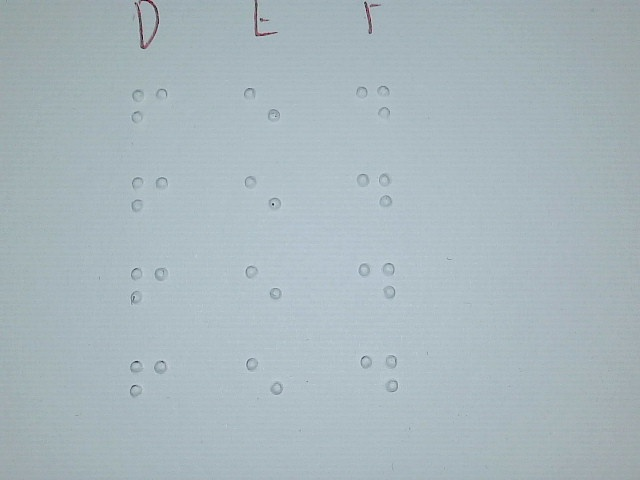D: (354, 76, 393, 141), (354, 163, 393, 228), (357, 252, 396, 317), (360, 344, 399, 409)
E: (243, 77, 282, 142), (243, 164, 282, 229), (244, 256, 283, 321), (245, 347, 284, 412)
F: (130, 78, 169, 143), (130, 166, 169, 231), (130, 255, 169, 320), (129, 349, 168, 414)
